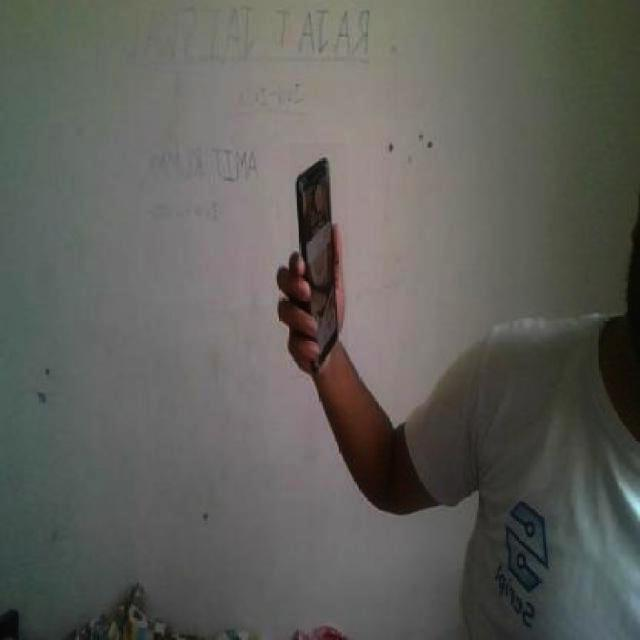mobile: (289, 143, 347, 380)
